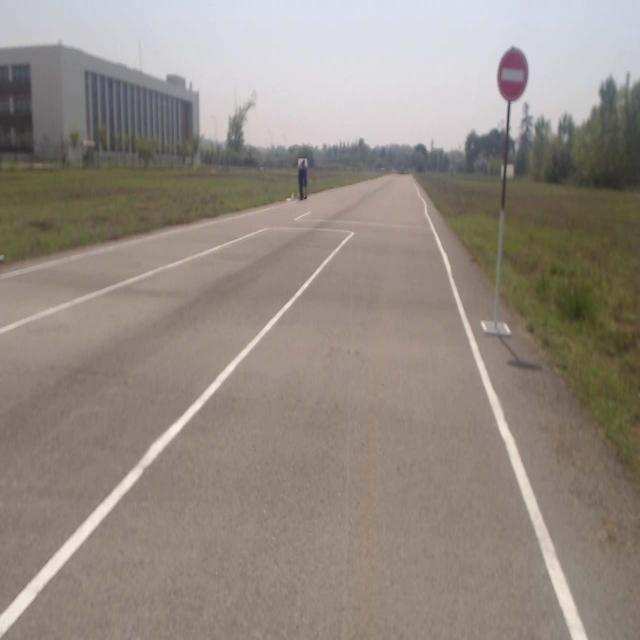girisyok: (498, 49, 528, 100)
